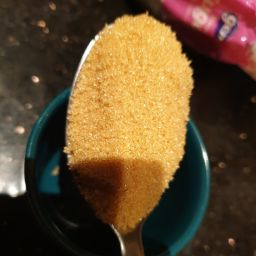Brown Sugar: (62, 10, 199, 230), (109, 33, 146, 214), (102, 39, 172, 118), (88, 74, 181, 126), (72, 131, 172, 172)
